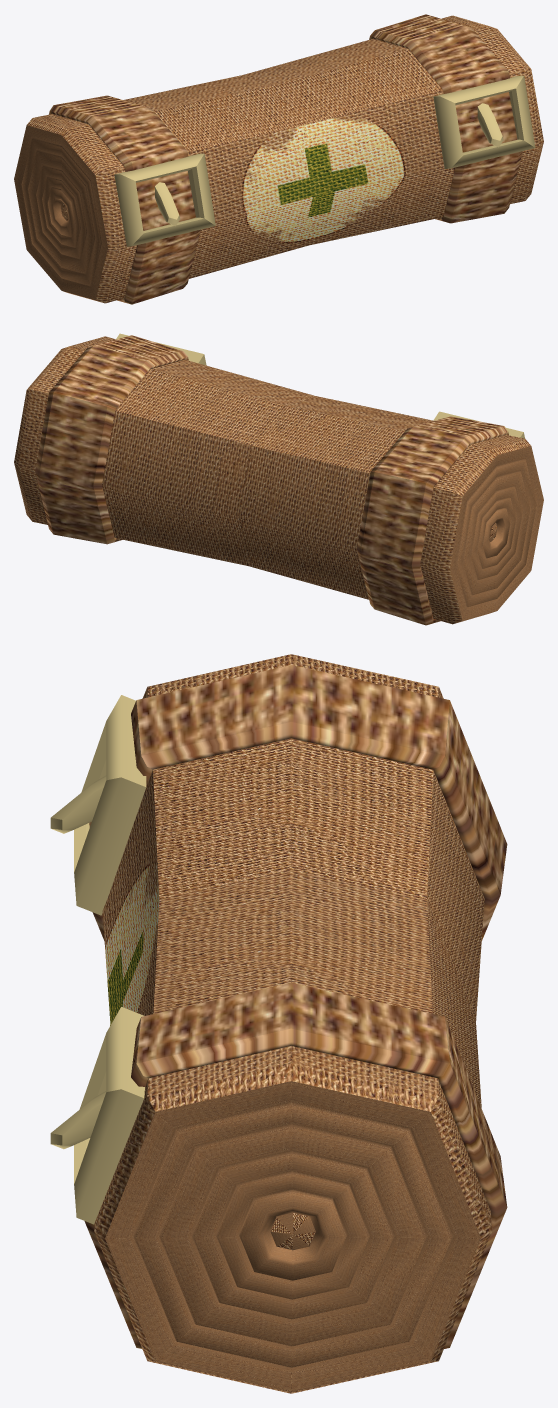
Rendered from SmallMediT.fbx.
The picture shows the model from 3 angles, top to bottom: view 1: azimuth 30°, elevation 25°; view 2: azimuth 150°, elevation 25°; view 3: azimuth 270°, elevation 25°; orthographic projection. The views are drawn at different scales.
Parts seen in each view (by area): view 1: polySurface11; view 2: polySurface11; view 3: polySurface11.
Boxes of the visible parts, x1=… form: polySurface11: x1=14, y1=14, x2=543, y2=304; polySurface11: x1=14, y1=333, x2=543, y2=625; polySurface11: x1=50, y1=654, x2=507, y2=1393.
Bounding box in the file's own units: 1.52 × 0.5893 × 0.6884.
3 materials, 2 textured.
